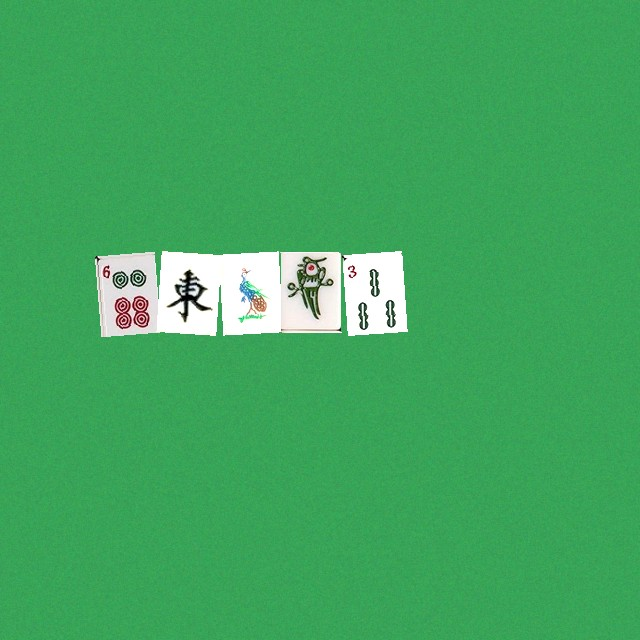tile: (94, 251, 154, 332), (156, 251, 216, 332), (218, 251, 278, 332), (280, 251, 340, 332), (342, 251, 402, 332)
